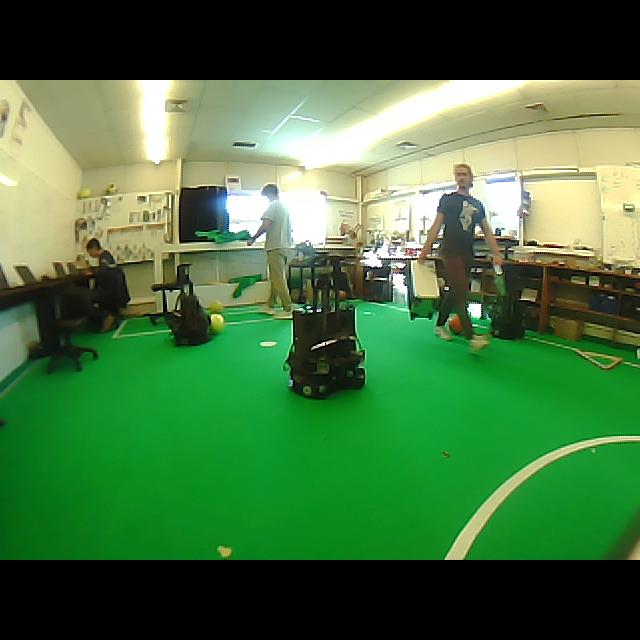ball: (449, 315, 464, 334), (210, 313, 224, 333), (78, 188, 92, 199), (210, 301, 222, 313), (105, 184, 118, 194)
robot: (285, 256, 365, 398), (166, 264, 208, 345), (491, 291, 525, 339)
